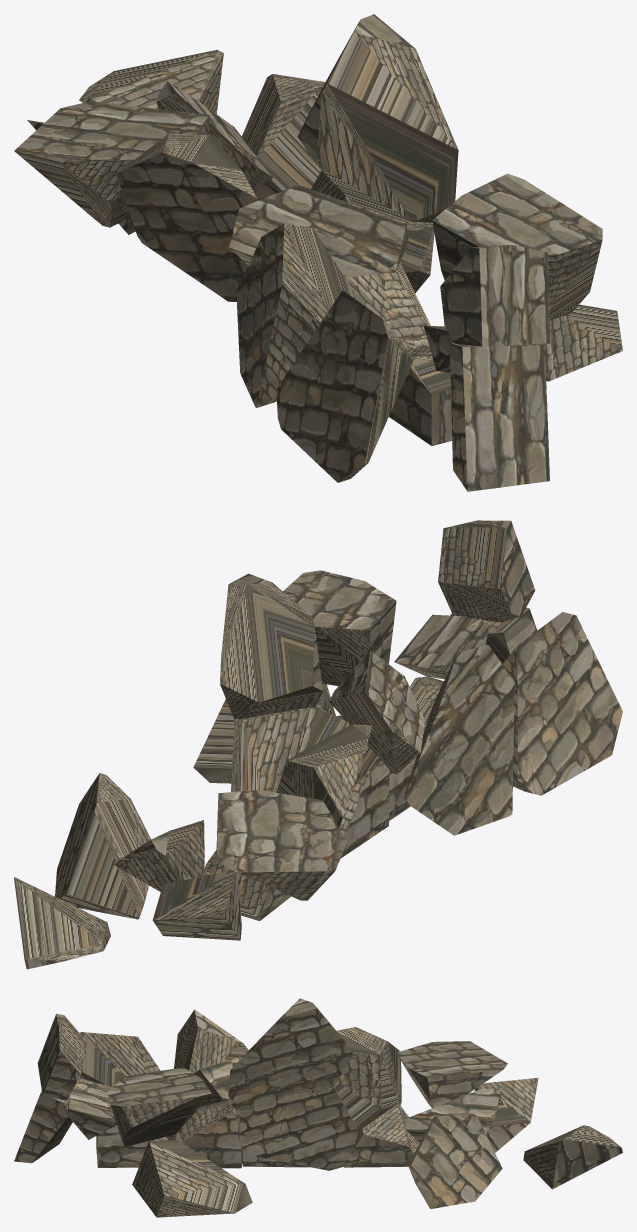
Rendered from BreakWallSmall_000009.obj.
The picture shows the model from 3 angles, top to bottom: view 1: azimuth 30°, elevation 25°; view 2: azimuth 150°, elevation 25°; view 3: azimuth 270°, elevation 25°; orthographic projection. The views are drawn at different scales.
Parts seen in each view (by area): view 1: Cube.002_cell.003_Cube.002_cell.002, Cube.002_cell.013_Cube.002_cell.012, Cube.002_cell.012_Cube.002_cell.011, Cube.002_cell.002_Cube.002_cell.001, Cube.002_cell.017_Cube.002_cell.016, Cube.002_cell.004_Cube.002_cell.003, Cube.002_cell.010_Cube.002_cell.009, Cube.002_cell.007_Cube.002_cell.006, Cube.002_cell.009_Cube.002_cell.008, Cube.002_cell.014_Cube.002_cell.013, Cube.002_cell.005_Cube.002_cell.004, Cube.002_cell.016_Cube.002_cell.015 (+5 smaller); view 2: Cube.002_cell.017_Cube.002_cell.016, Cube.002_cell.013_Cube.002_cell.012, Cube.002_cell.003_Cube.002_cell.002, Cube.002_cell.010_Cube.002_cell.009, Cube.002_cell.014_Cube.002_cell.013, Cube.002_cell.007_Cube.002_cell.006, Cube.002_cell.004_Cube.002_cell.003, Cube.002_cell.009_Cube.002_cell.008, Cube.002_cell.015_Cube.002_cell.014, Cube.002_cell.005_Cube.002_cell.004, Cube.002_cell.018_Cube.002_cell.017, Cube.002_cell.012_Cube.002_cell.011 (+8 smaller); view 3: Cube.002_cell.003_Cube.002_cell.002, Cube.002_cell.015_Cube.002_cell.014, Cube.002_cell.016_Cube.002_cell.015, Cube.002_cell.014_Cube.002_cell.013, Cube.002_cell.004_Cube.002_cell.003, Cube.002_cell.012_Cube.002_cell.011, Cube.002_cell.010_Cube.002_cell.009, Cube.002_cell.005_Cube.002_cell.004, Cube.002_cell.008_Cube.002_cell.007, Cube.002_cell.013_Cube.002_cell.012, Cube.002_cell_Cube.002_cell.020, Cube.002_cell.007_Cube.002_cell.006 (+8 smaller).
Part boxes in pixels (left/top/right/bottom): Cube.002_cell.003_Cube.002_cell.002: left=297, top=14, right=458, bottom=222; Cube.002_cell.013_Cube.002_cell.012: left=276, top=290, right=413, bottom=482; Cube.002_cell.012_Cube.002_cell.011: left=116, top=133, right=257, bottom=301; Cube.002_cell.002_Cube.002_cell.001: left=450, top=343, right=549, bottom=491; Cube.002_cell.017_Cube.002_cell.016: left=237, top=223, right=353, bottom=407; Cube.002_cell.004_Cube.002_cell.003: left=432, top=173, right=602, bottom=320; Cube.002_cell.010_Cube.002_cell.009: left=14, top=101, right=209, bottom=227; Cube.002_cell.007_Cube.002_cell.006: left=440, top=245, right=550, bottom=346; Cube.002_cell.009_Cube.002_cell.008: left=229, top=184, right=408, bottom=276; Cube.002_cell.014_Cube.002_cell.013: left=242, top=74, right=325, bottom=200; Cube.002_cell.005_Cube.002_cell.004: left=79, top=49, right=223, bottom=113; Cube.002_cell.016_Cube.002_cell.015: left=545, top=304, right=622, bottom=381; Cube.002_cell.017_Cube.002_cell.016: left=404, top=645, right=514, bottom=835; Cube.002_cell.013_Cube.002_cell.012: left=502, top=612, right=622, bottom=795; Cube.002_cell.003_Cube.002_cell.002: left=219, top=573, right=322, bottom=719; Cube.002_cell.010_Cube.002_cell.009: left=216, top=790, right=347, bottom=900; Cube.002_cell.014_Cube.002_cell.013: left=55, top=773, right=150, bottom=919; Cube.002_cell.007_Cube.002_cell.006: left=438, top=520, right=535, bottom=622; Cube.002_cell.004_Cube.002_cell.003: left=283, top=570, right=396, bottom=686; Cube.002_cell.009_Cube.002_cell.008: left=329, top=650, right=424, bottom=774; Cube.002_cell.015_Cube.002_cell.014: left=231, top=706, right=349, bottom=792; Cube.002_cell.005_Cube.002_cell.004: left=14, top=877, right=110, bottom=969; Cube.002_cell.018_Cube.002_cell.017: left=152, top=870, right=241, bottom=940; Cube.002_cell.012_Cube.002_cell.011: left=276, top=724, right=372, bottom=827; Cube.002_cell.003_Cube.002_cell.002: left=228, top=998, right=353, bottom=1113; Cube.002_cell.015_Cube.002_cell.014: left=237, top=1087, right=358, bottom=1170; Cube.002_cell.016_Cube.002_cell.015: left=132, top=1140, right=252, bottom=1217; Cube.002_cell.014_Cube.002_cell.013: left=408, top=1113, right=502, bottom=1208; Cube.002_cell.004_Cube.002_cell.003: left=107, top=1067, right=211, bottom=1146; Cube.002_cell.012_Cube.002_cell.011: left=334, top=1027, right=401, bottom=1131; Cube.002_cell.010_Cube.002_cell.009: left=396, top=1041, right=507, bottom=1108; Cube.002_cell.005_Cube.002_cell.004: left=523, top=1125, right=622, bottom=1189; Cube.002_cell.008_Cube.002_cell.007: left=167, top=1099, right=242, bottom=1168; Cube.002_cell.013_Cube.002_cell.012: left=79, top=1032, right=160, bottom=1086; Cube.002_cell_Cube.002_cell.020: left=344, top=1103, right=419, bottom=1167; Cube.002_cell.007_Cube.002_cell.006: left=37, top=1013, right=87, bottom=1100.
Bounding box in the file's own units: 19.34 × 14.16 × 45.06.
2 materials, 2 textured.
